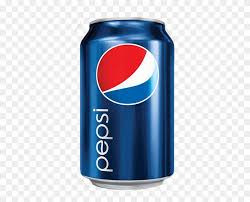pepsi: (79, 17, 174, 189)
